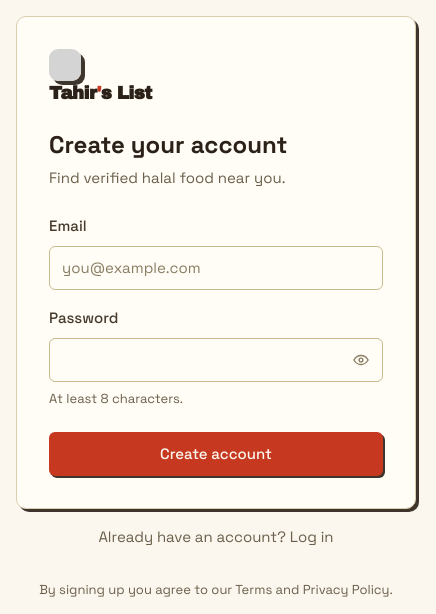
Test: SignUpPage — success + remaining error branches (#2) › renders the backend weak-password detail as the password field error (sc-39)
Type "a@b.co" into the field labelled "Email" at point(216, 268), box top-left (49, 246), bottom-right (383, 290)
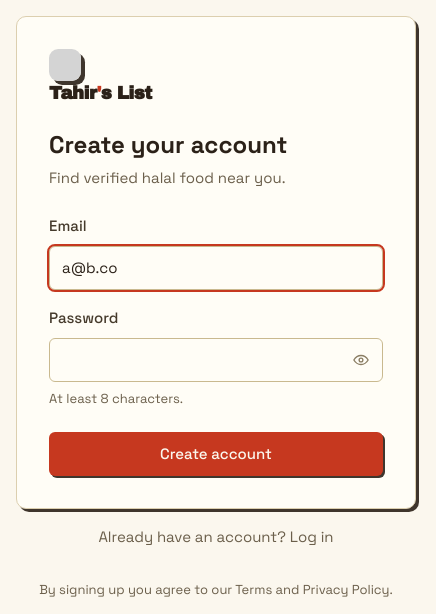
Type "password123" into the password field labelled "Password" at point(216, 360), box top-left (49, 338), bottom-right (383, 382)
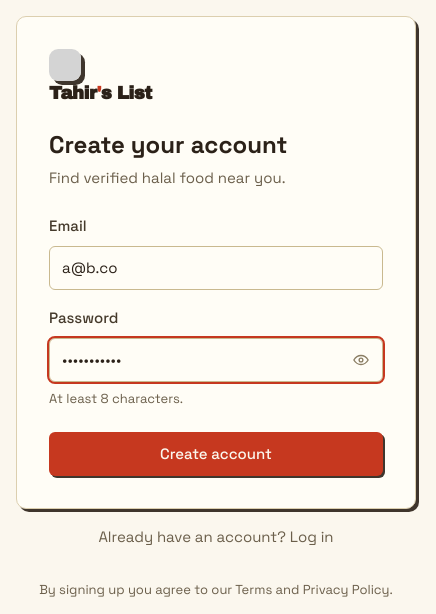
Click the button "Create account" at point(216, 454), box top-left (49, 432), bottom-right (383, 476)
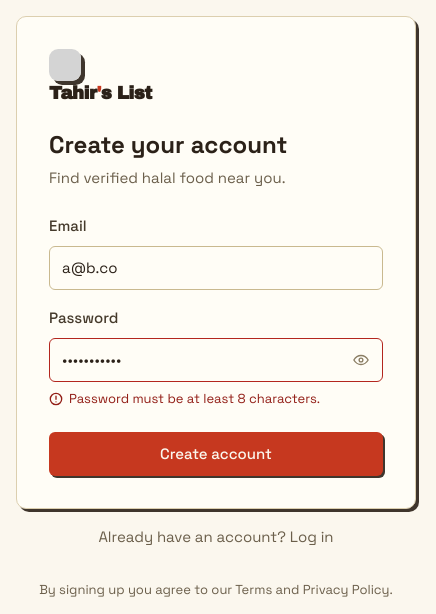
expect the message reads "Password must be at least 8 characters.": met, box top-left (69, 390), bottom-right (320, 406)
